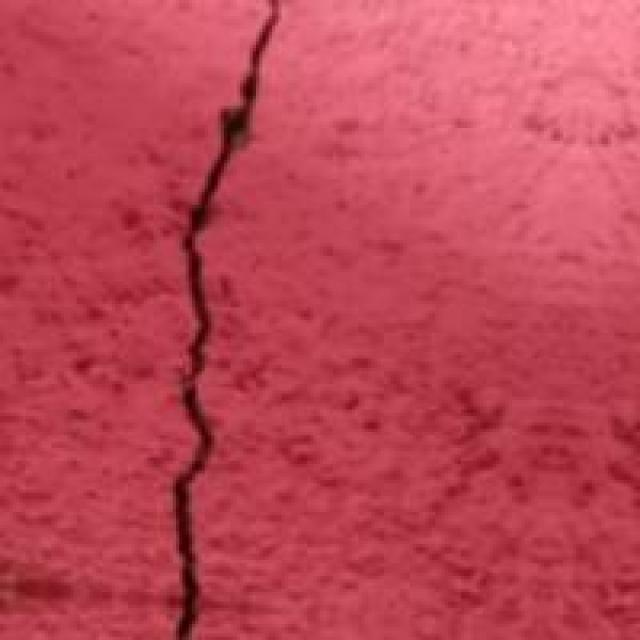crack: (125, 0, 310, 637)
